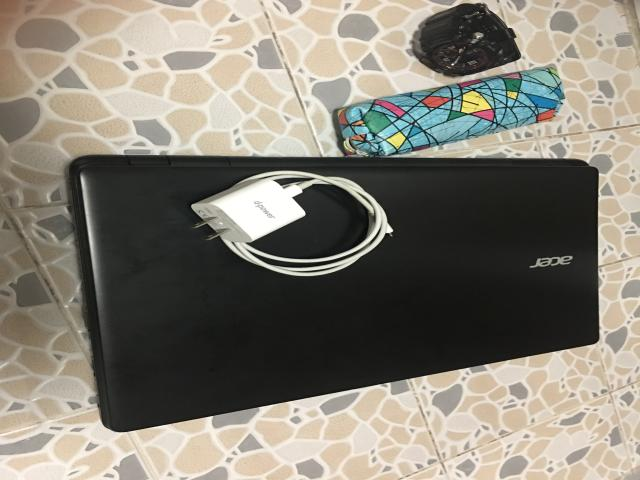Watch: (413, 3, 522, 76)
wire: (192, 171, 393, 277)
